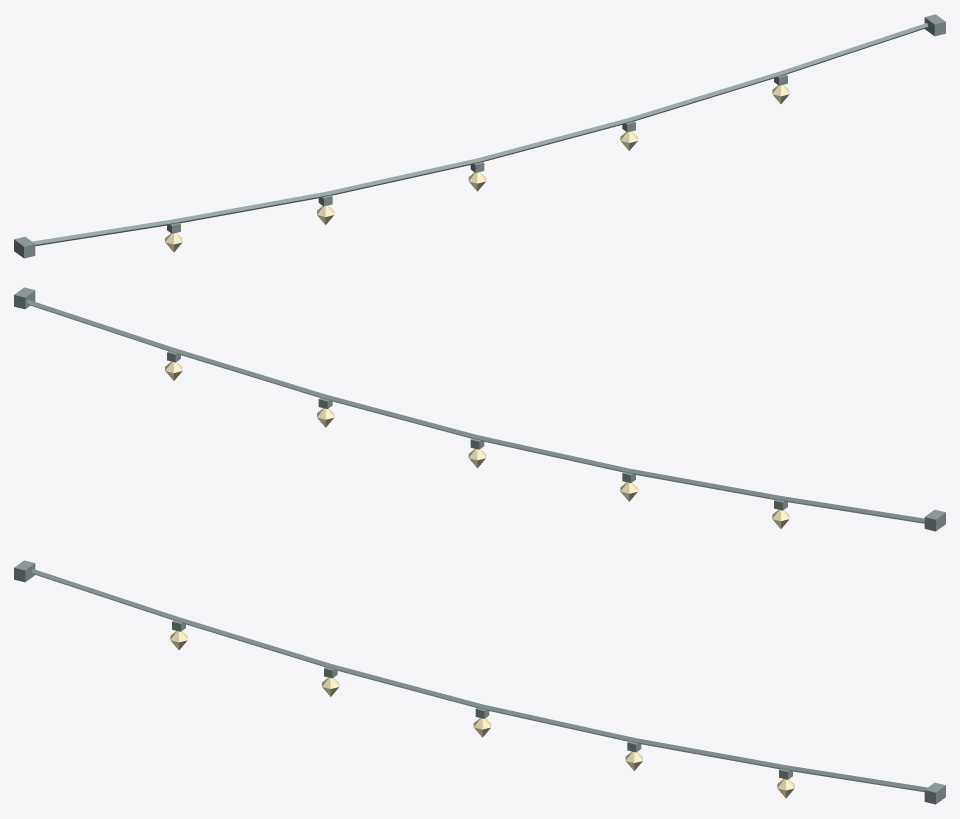
File: string_lights_3.glb
The picture shows the model from 3 angles, top to bottom: view 1: azimuth 30°, elevation 25°; view 2: azimuth 150°, elevation 25°; view 3: azimuth 330°, elevation 25°; orthographic projection.
Visible parts, largest first — view 1: Cord.004, Cord.003, Cord.002, Cord.001, Cord.005, Cord; view 2: Cord.003, Cord.001, Cord.004, Cord.002, Cord.005, Cord; view 3: Cord.001, Cord.002, Cord.003, Cord.004, Cord, Cord.005.
Boxes of the visible parts, <box> form: Cord.004: <box>629,71,782,121</box>; Cord.003: <box>477,118,630,162</box>; Cord.002: <box>326,158,478,196</box>; Cord.001: <box>174,192,326,223</box>; Cord.005: <box>781,23,928,75</box>; Cord: <box>32,219,175,246</box>; Cord.003: <box>324,394,477,439</box>; Cord.001: <box>628,468,780,500</box>; Cord.004: <box>172,348,325,398</box>; Cord.002: <box>476,435,628,472</box>; Cord.005: <box>26,299,173,351</box>; Cord: <box>779,496,924,523</box>; Cord.001: <box>177,617,330,667</box>; Cord.002: <box>329,664,482,708</box>; Cord.003: <box>481,704,633,742</box>; Cord.004: <box>633,738,785,769</box>; Cord: <box>31,569,178,621</box>; Cord.005: <box>784,765,927,792</box>.
Bounding box in the file's own units: 1.33 × 0.0873 × 0.0301.
